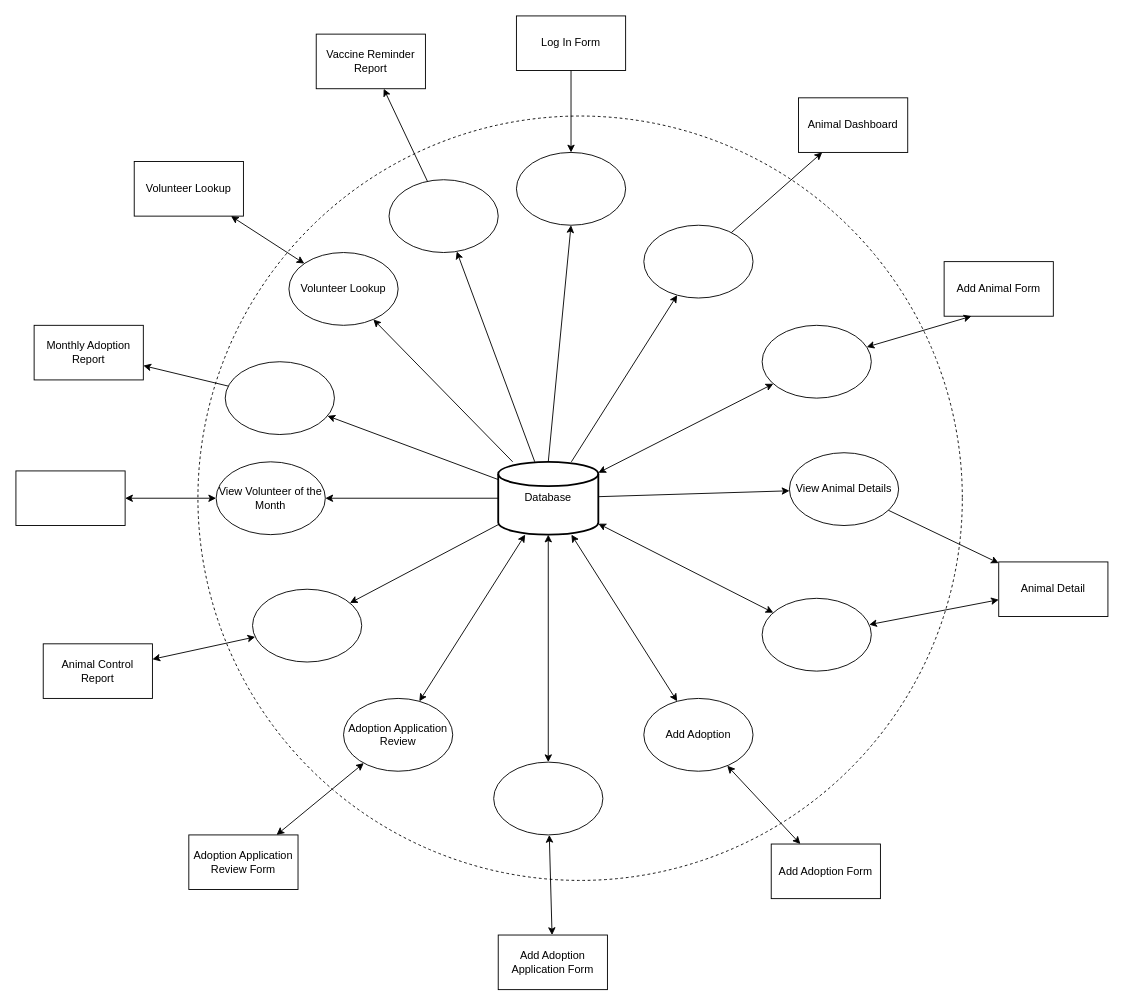
The diagram is 1124 pixels wide and 1006 high, and some of its shapes have lost their labels. Here are the shapes that lost their labels. From the top down, the box of each, then its label:
(516, 152, 626, 225): Log In
(388, 179, 498, 253): View Vaccine Reminder Report
(643, 224, 753, 298): View Animal Dashboard
(761, 324, 871, 398): Add Animal
(224, 361, 334, 435): View Monthly Adoption Report
(15, 470, 125, 526): Volunteer of the Month
(252, 588, 362, 662): View Animal Control Report
(761, 597, 871, 671): Add Vaccination
(493, 761, 603, 835): Add Adoption Application
